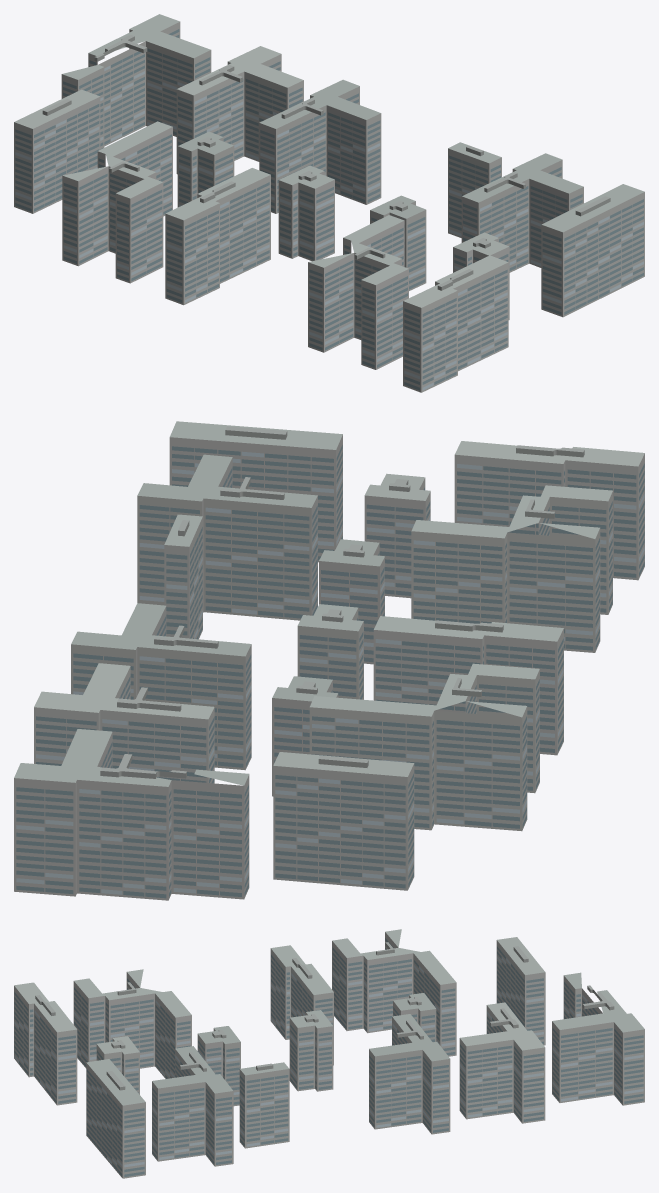
File: apt-a13987304.glb
3 views of the same model, one above another, from view 1: azimuth 30°, elevation 25°; view 2: azimuth 150°, elevation 25°; view 3: azimuth 270°, elevation 25° (orthographic). The views are drawn at different scales.
Visible parts, largest first — view 1: apt-a13987304; view 2: apt-a13987304; view 3: apt-a13987304.
Boxes of the visible parts, x1,y1,x2,y2 form: apt-a13987304: [14, 14, 644, 392]; apt-a13987304: [14, 421, 644, 900]; apt-a13987304: [14, 929, 644, 1178].
Size of the model in its own units: 237 by 47.81 by 358.
